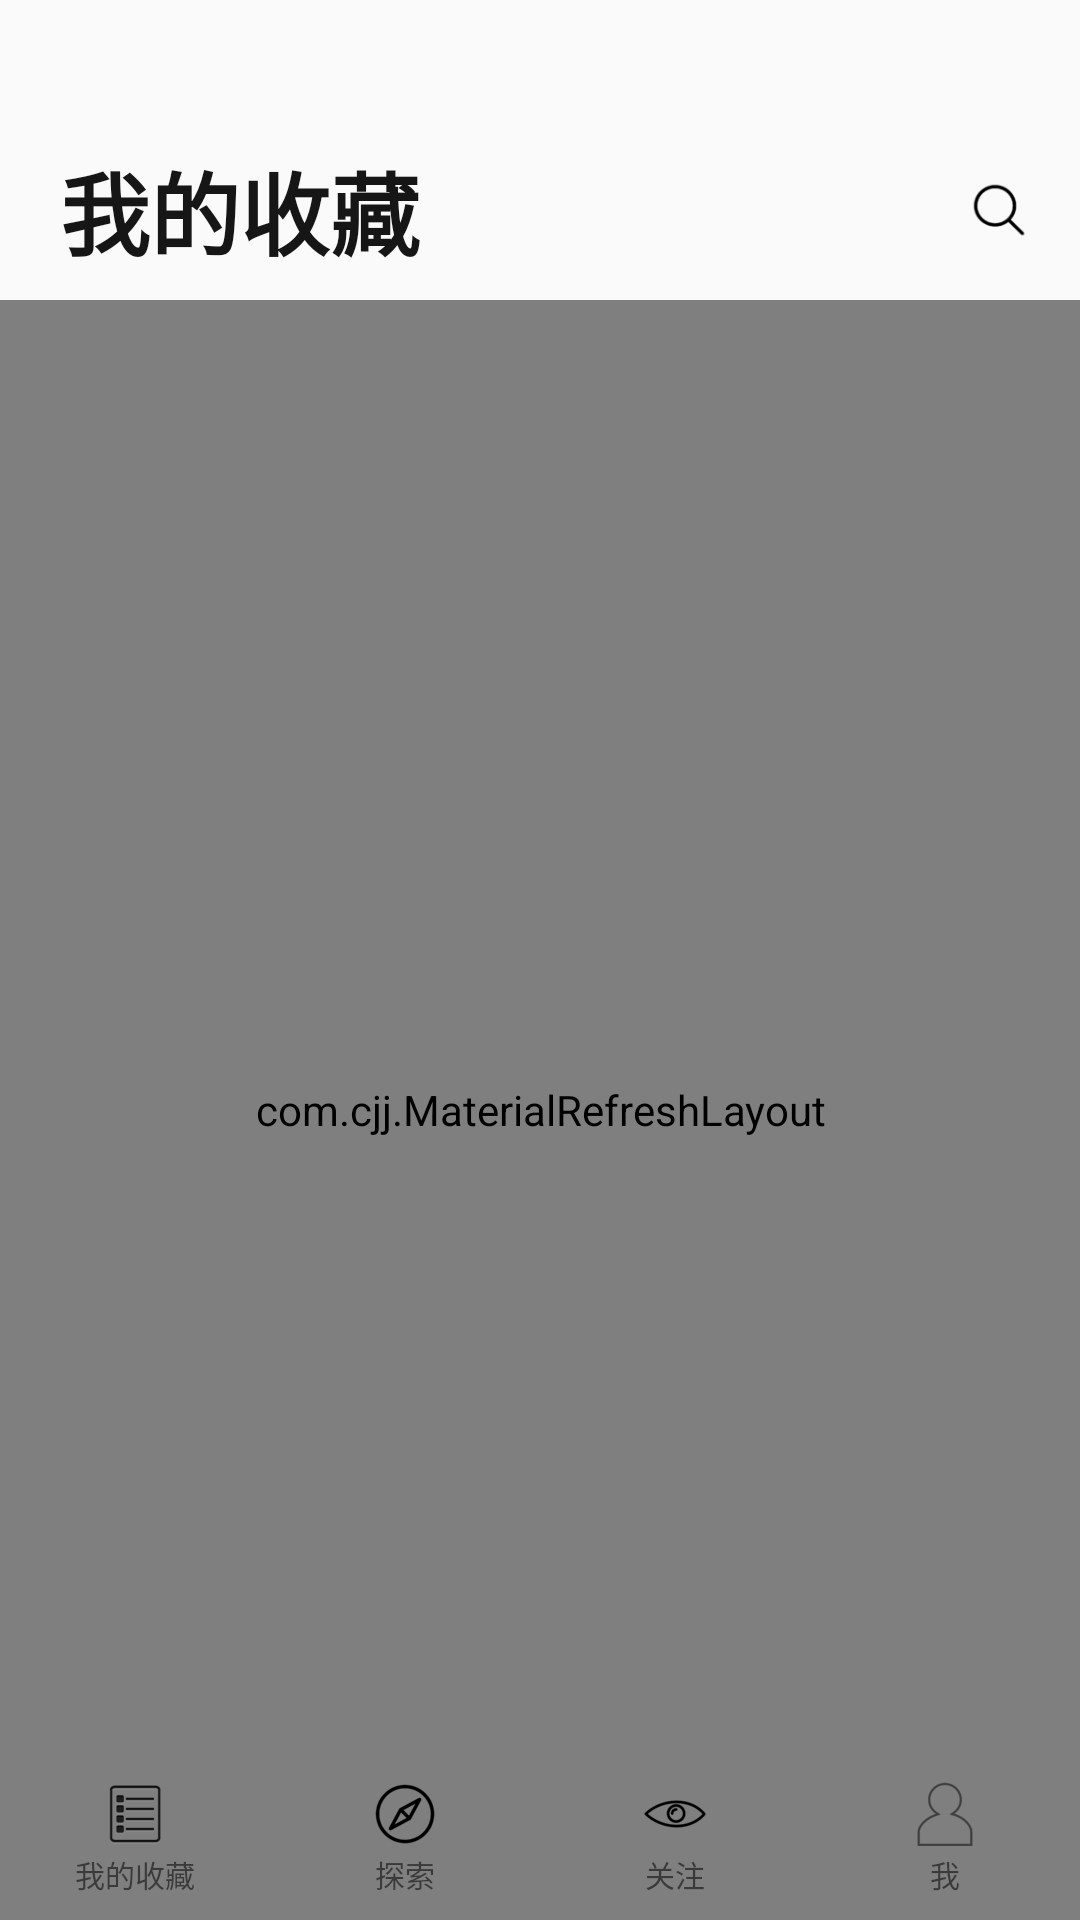

Where icons sit on this 1080 x 1920 app screen, as (x1, y1, x2, y2):
manager: (917, 1783, 973, 1846)
search: (973, 184, 1025, 236)
